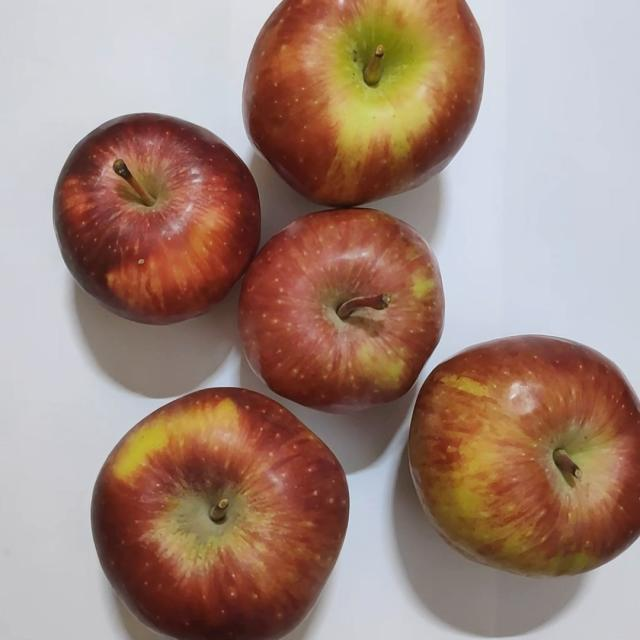apple: (82, 387, 350, 640), (391, 332, 640, 590), (226, 0, 484, 222), (41, 112, 261, 342), (222, 206, 448, 428)
